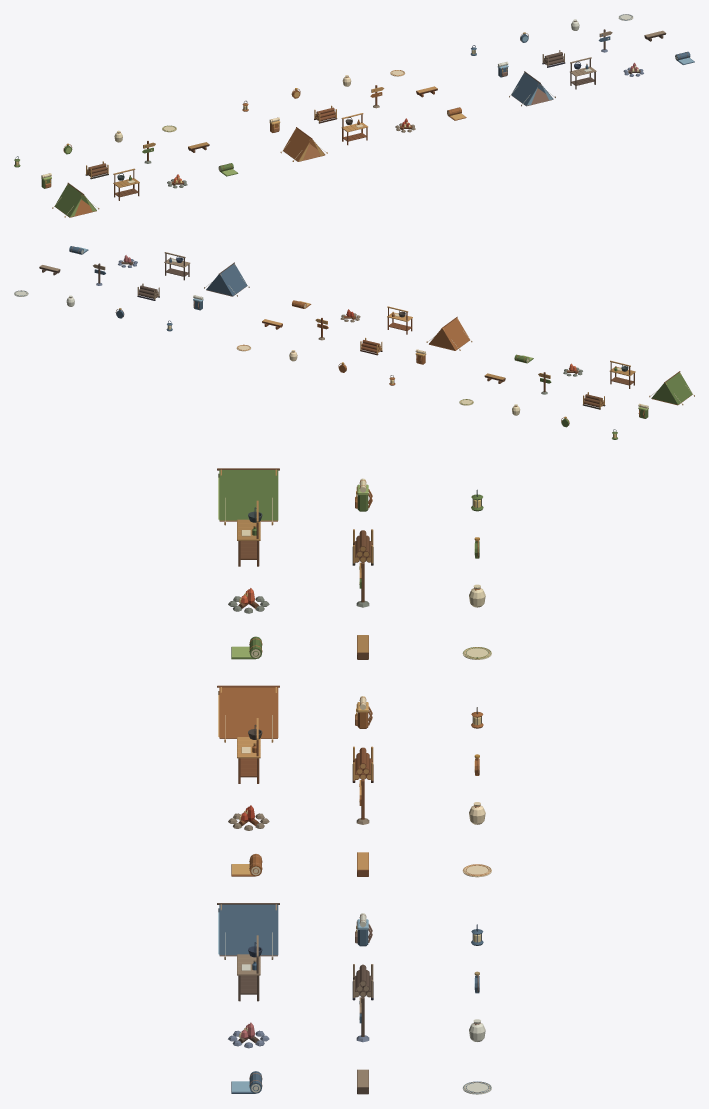
The model's file is mossvale-camp-native.glb.
3 renders of one model, top to bottom at view 1: azimuth 30°, elevation 25°; view 2: azimuth 150°, elevation 25°; view 3: azimuth 270°, elevation 25°, orthographic. The views are drawn at different scales.
Visible parts, largest first — view 1: Classic__01_Ridge_Tent__Body, Twilight__01_Ridge_Tent__Body, Warm__01_Ridge_Tent__Body, Warm__02_Field_Kitchen__Body, Twilight__02_Field_Kitchen__Body, Classic__02_Field_Kitchen__Body; view 2: Warm__01_Ridge_Tent__Body, Classic__01_Ridge_Tent__Body, Twilight__01_Ridge_Tent__Body, Classic__02_Field_Kitchen__Body, Twilight__02_Field_Kitchen__Body, Warm__02_Field_Kitchen__Body; view 3: Warm__01_Ridge_Tent__Body, Classic__01_Ridge_Tent__Body, Twilight__01_Ridge_Tent__Body, Twilight__02_Field_Kitchen__Body, Warm__02_Field_Kitchen__Body, Classic__02_Field_Kitchen__Body.
Boxes of the visible parts, left/top/right/bottom form: Classic__01_Ridge_Tent__Body: left=52, top=182, right=99, bottom=217; Twilight__01_Ridge_Tent__Body: left=509, top=71, right=555, bottom=106; Warm__01_Ridge_Tent__Body: left=280, top=127, right=327, bottom=161; Warm__02_Field_Kitchen__Body: left=341, top=113, right=367, bottom=145; Twilight__02_Field_Kitchen__Body: left=570, top=57, right=596, bottom=89; Classic__02_Field_Kitchen__Body: left=113, top=168, right=139, bottom=200; Warm__01_Ridge_Tent__Body: left=426, top=316, right=472, bottom=350; Classic__01_Ridge_Tent__Body: left=649, top=371, right=694, bottom=405; Twilight__01_Ridge_Tent__Body: left=204, top=262, right=249, bottom=296; Classic__02_Field_Kitchen__Body: left=609, top=360, right=635, bottom=388; Twilight__02_Field_Kitchen__Body: left=164, top=252, right=190, bottom=280; Warm__02_Field_Kitchen__Body: left=387, top=306, right=412, bottom=334; Warm__01_Ridge_Tent__Body: left=217, top=685, right=279, bottom=742; Classic__01_Ridge_Tent__Body: left=217, top=468, right=279, bottom=525; Twilight__01_Ridge_Tent__Body: left=217, top=903, right=279, bottom=959; Twilight__02_Field_Kitchen__Body: left=237, top=935, right=262, bottom=1001; Warm__02_Field_Kitchen__Body: left=237, top=718, right=262, bottom=783; Classic__02_Field_Kitchen__Body: left=237, top=500, right=262, bottom=566.
Bounding box in the file's own units: 100 × 3.59 × 19.24.
3 materials, 3 textured.
